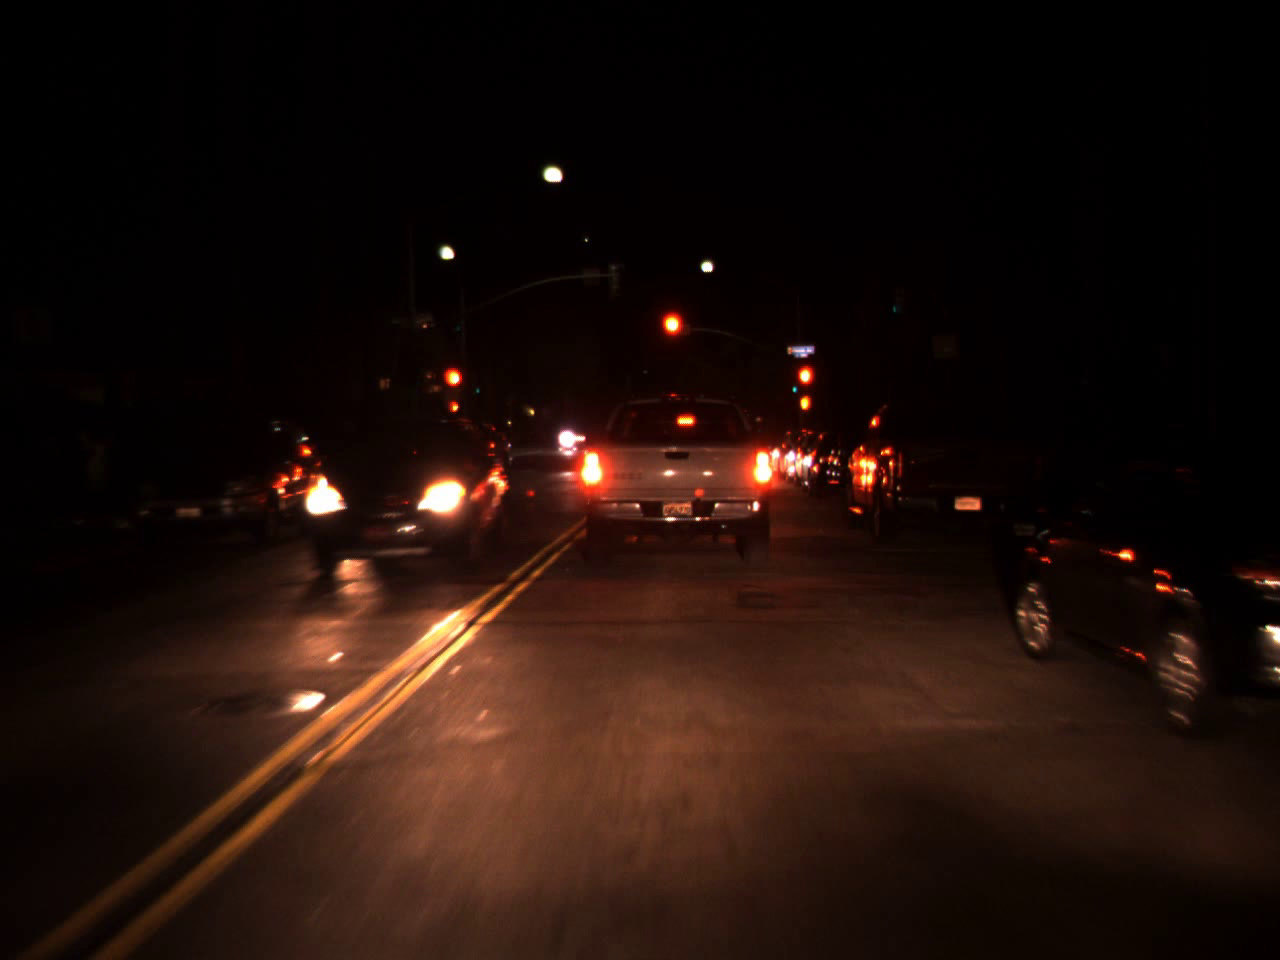stop: (659, 309, 686, 363), (794, 361, 816, 409), (442, 366, 466, 409)
